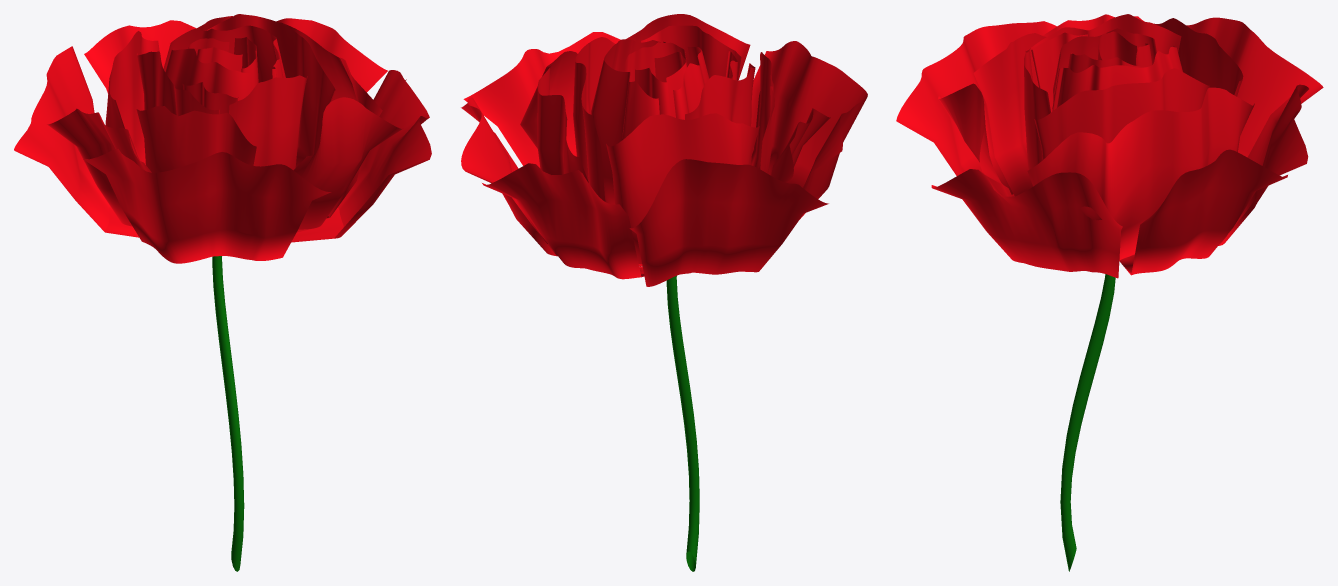
The model's file is Rosa.glb.
The picture shows the model from 3 angles, left to right: view 1: azimuth 30°, elevation 25°; view 2: azimuth 150°, elevation 25°; view 3: azimuth 270°, elevation 25°; orthographic projection. The views are drawn at different scales.
Parts seen in each view (by area): view 1: Rose, BézierCurve; view 2: Rose, BézierCurve; view 3: Rose, BézierCurve.
Boxes of the visible parts, x1,y1,x2,y2 form: Rose: (14, 14, 431, 263); BézierCurve: (212, 256, 244, 571); Rose: (461, 14, 867, 286); BézierCurve: (666, 275, 699, 571); Rose: (896, 14, 1323, 278); BézierCurve: (1060, 274, 1115, 571).
Size of the model in its own units: 10.27 by 13.51 by 9.77.
